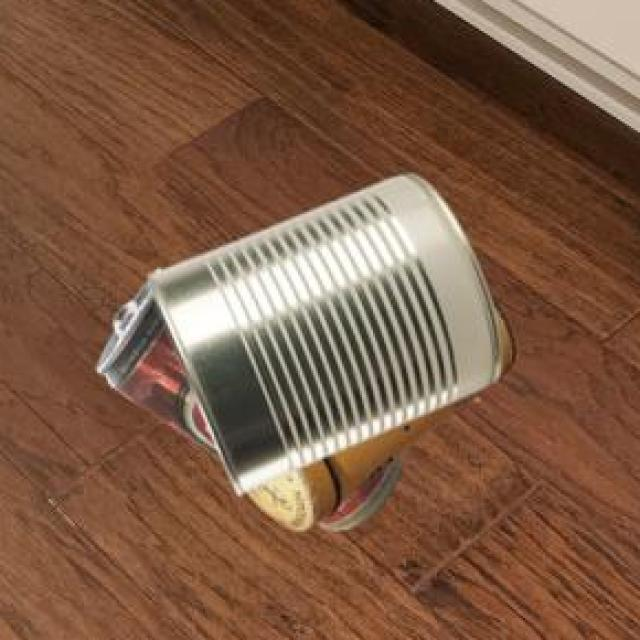logam: (153, 171, 504, 491), (100, 277, 404, 526), (250, 297, 518, 529)
